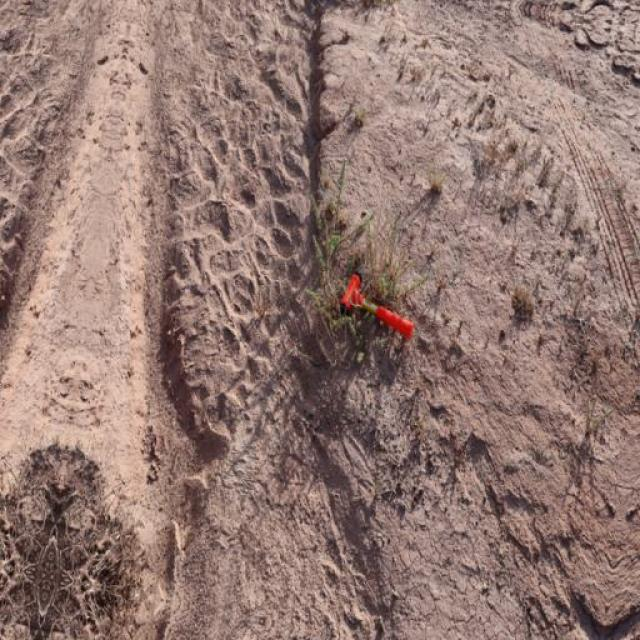mallet: (337, 270, 415, 341)
